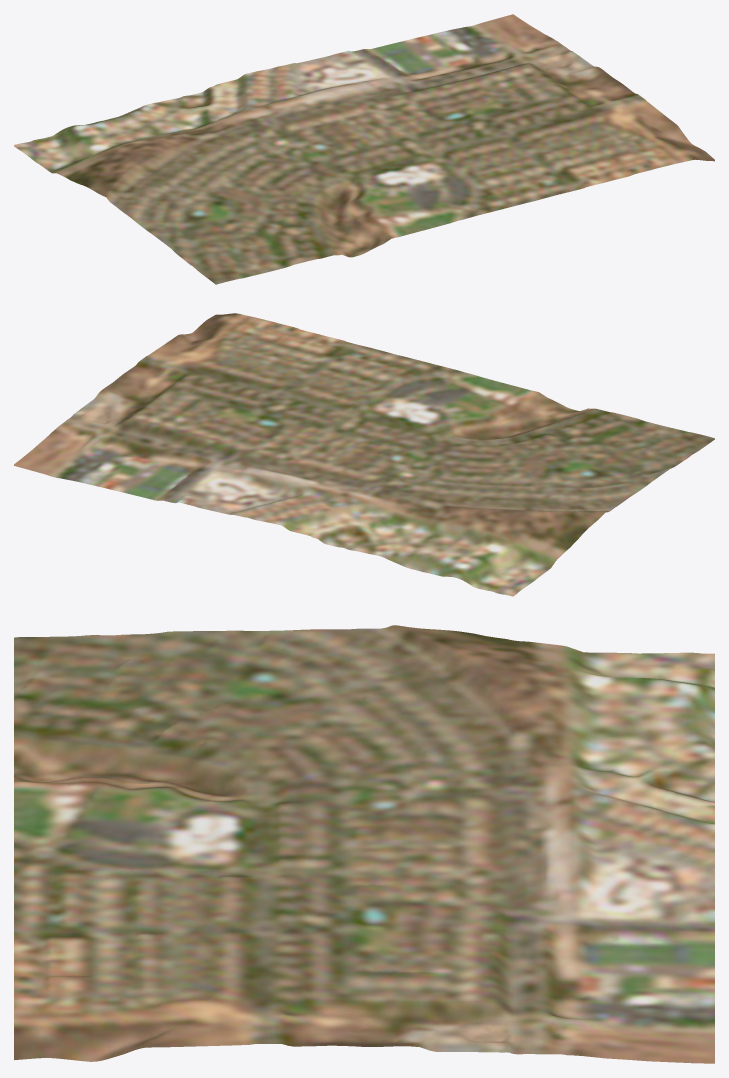
The model's file is terrain_r3_c2.glb.
3 renders of one model, top to bottom at view 1: azimuth 30°, elevation 25°; view 2: azimuth 150°, elevation 25°; view 3: azimuth 270°, elevation 25°, orthographic. The views are drawn at different scales.
Visible parts, largest first — view 1: terrain_r3_c2_lod0; view 2: terrain_r3_c2_lod0; view 3: terrain_r3_c2_lod0.
Boxes of the visible parts, x1,y1,x2,y2 form: terrain_r3_c2_lod0: (14, 14, 714, 284); terrain_r3_c2_lod0: (14, 313, 714, 596); terrain_r3_c2_lod0: (14, 625, 714, 1063).
Bounding box in the file's own units: 1125 × 48.21 × 787.
1 material, 1 textured.
